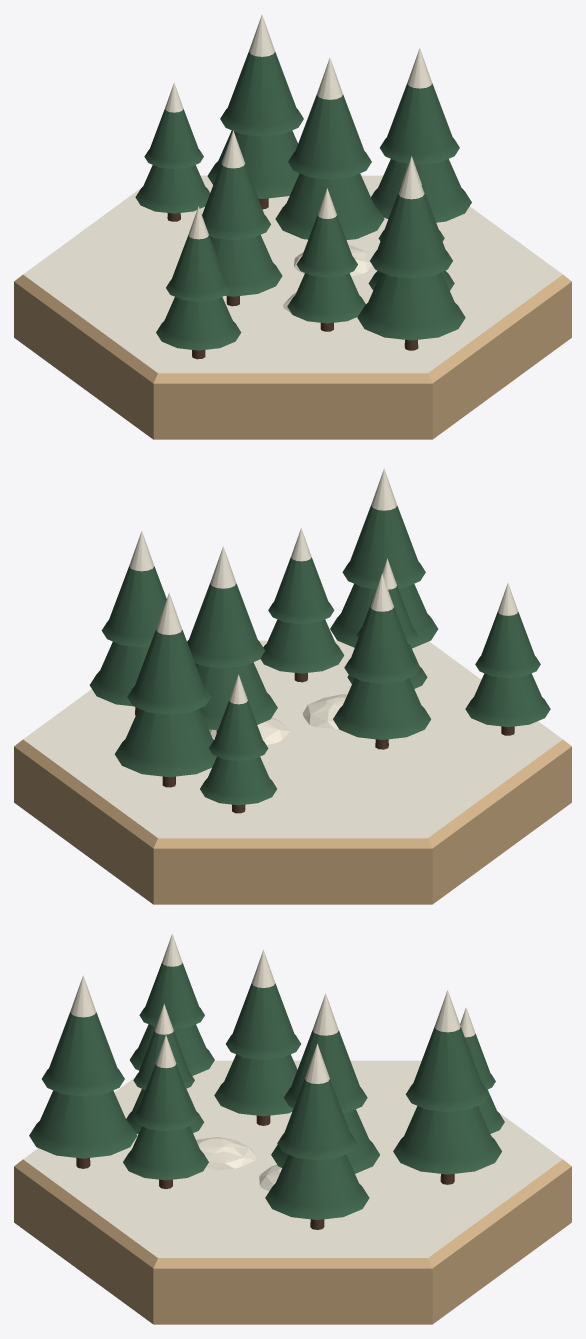
The model's file is tile_snowy_firs_2.fbx.
The picture shows the model from 3 angles, top to bottom: view 1: azimuth 30°, elevation 25°; view 2: azimuth 150°, elevation 25°; view 3: azimuth 270°, elevation 25°; orthographic projection.
Parts seen in each view (by area): view 1: tile_snowy_firs_2; view 2: tile_snowy_firs_2; view 3: tile_snowy_firs_2.
Boxes of the visible parts, box(x1,y1,x2,y2) form: tile_snowy_firs_2: box(14, 15, 571, 439); tile_snowy_firs_2: box(14, 468, 571, 904); tile_snowy_firs_2: box(14, 934, 571, 1324).
Bounding box in the file's own units: 1.73 × 1.01 × 2.
